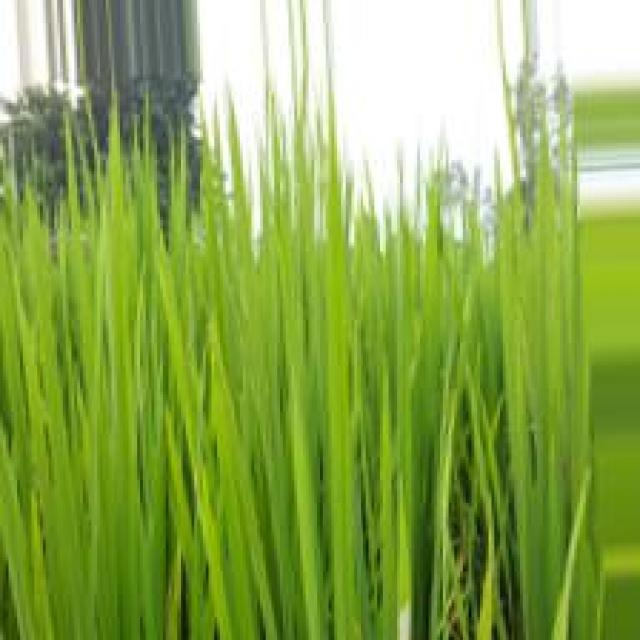HealthyLeaf: (214, 277, 334, 558), (42, 496, 154, 640)
